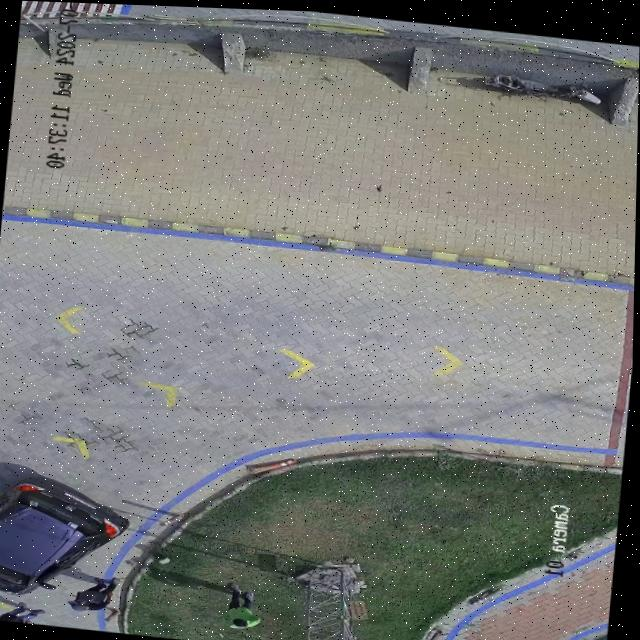car: (0, 473, 135, 596)
